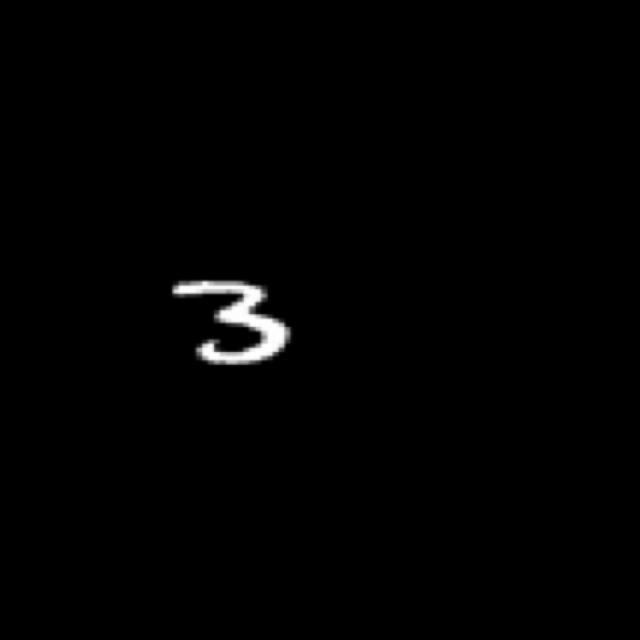three -3-: (157, 269, 299, 376)
